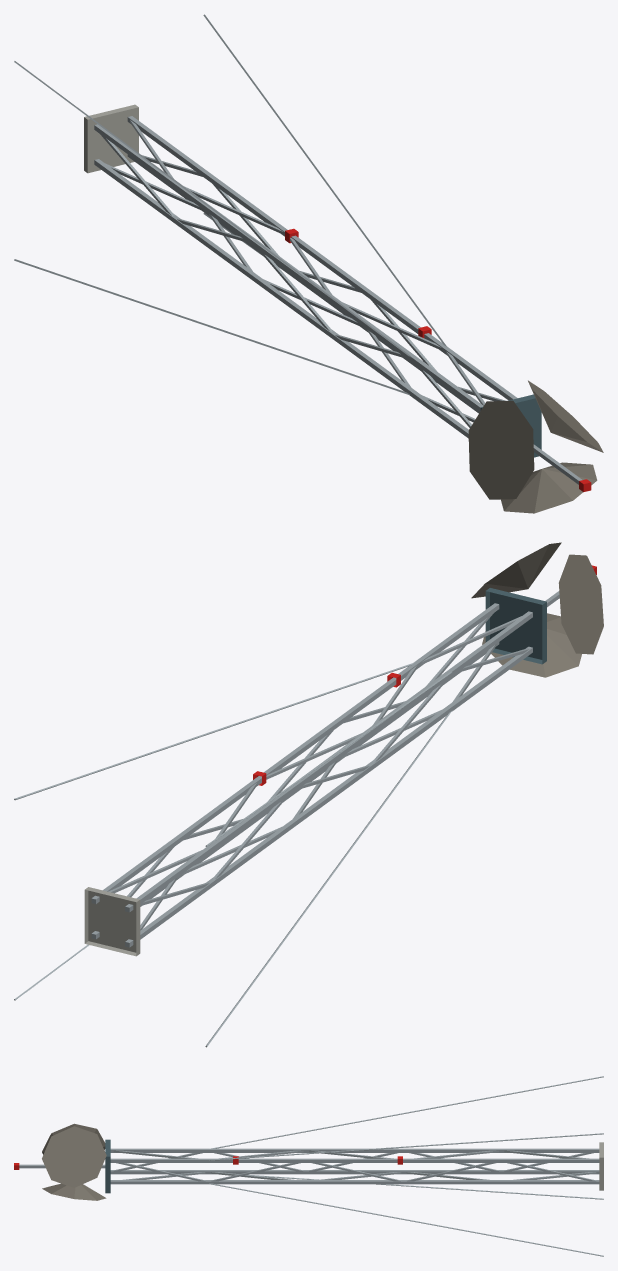
3 renders of one model, top to bottom at view 1: azimuth 30°, elevation 25°; view 2: azimuth 150°, elevation 25°; view 3: azimuth 270°, elevation 25°, orthographic. The views are drawn at different scales.
Visible parts, largest first — view 1: object_transmitter; view 2: object_transmitter; view 3: object_transmitter.
Boxes of the visible parts, x1,y1,x2,y2 form: object_transmitter: (14,14,603,513); object_transmitter: (14,542,603,1047); object_transmitter: (14,1076,603,1256).
Bounding box in the file's own units: 14.94 × 14.94 × 64.61.
